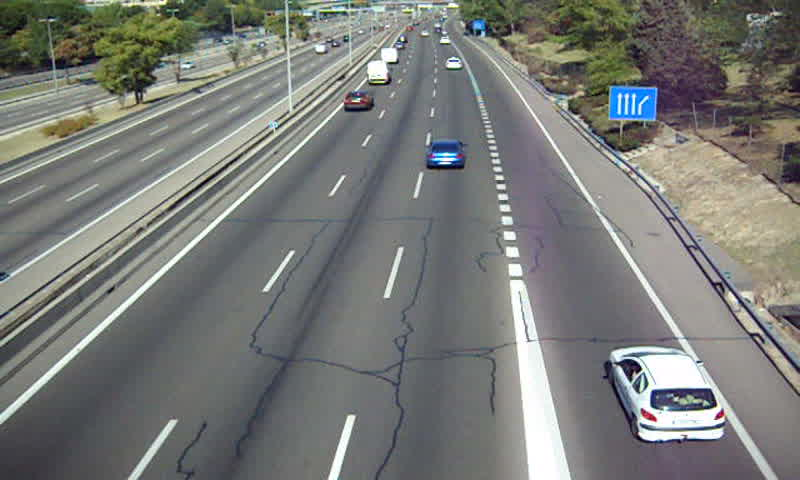car: (607, 346, 726, 444), (426, 139, 466, 170), (342, 90, 374, 112)
van: (365, 60, 393, 85), (381, 45, 398, 63)
